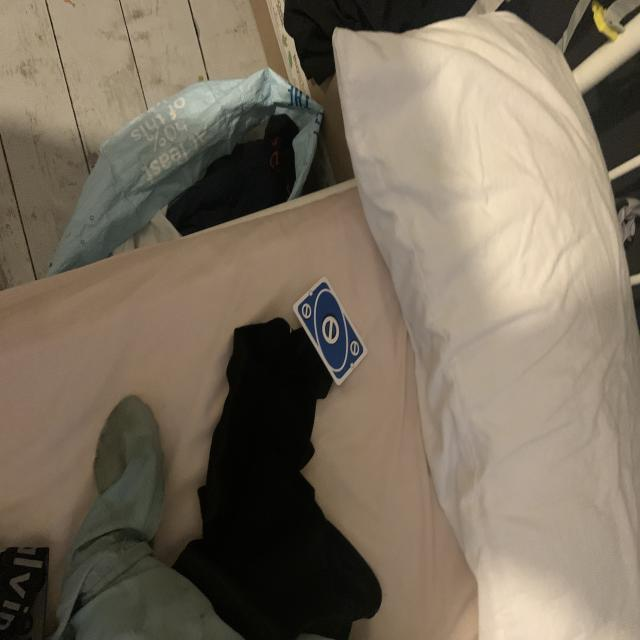lblueskip-20: (300, 300, 314, 323)
